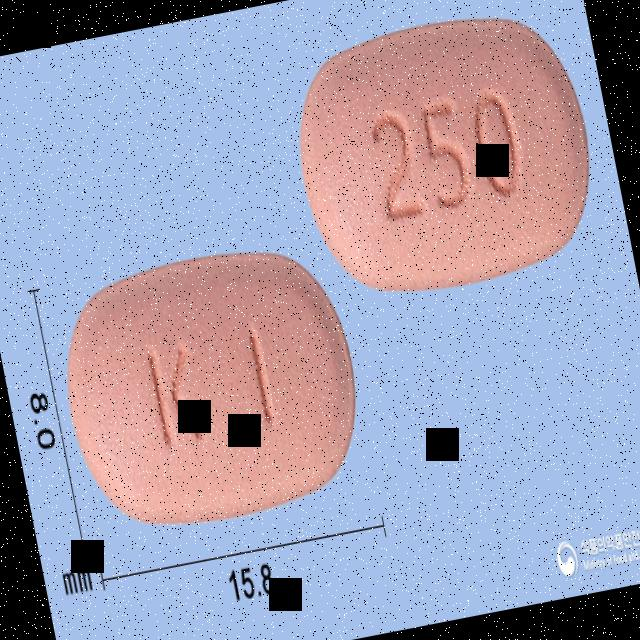Levogun: (45, 232, 378, 543), (279, 0, 611, 308)
